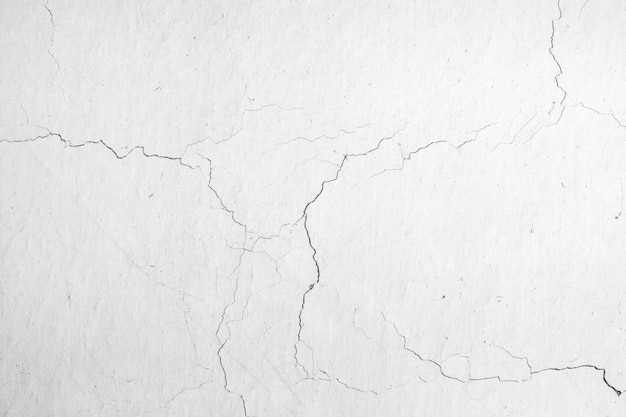crack: (284, 122, 407, 397), (163, 158, 246, 416), (381, 309, 622, 394), (0, 100, 209, 182), (404, 104, 544, 157), (213, 101, 307, 138), (243, 211, 304, 254), (546, 0, 566, 125), (567, 94, 625, 129), (43, 0, 61, 105)
